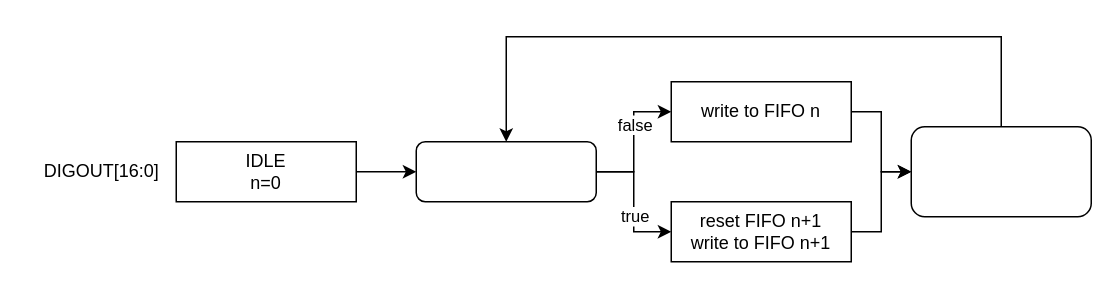
The diagram is 1118 pixels wide and 288 high, and some of its shapes have lost their labels. The centre of each missing label's shape, as x and y in pixels:
"if (FIFO_n_rd_en)" belongs at (505,171).
"if (n=N) n=0 else n=n+1" belongs at (1000,171).
